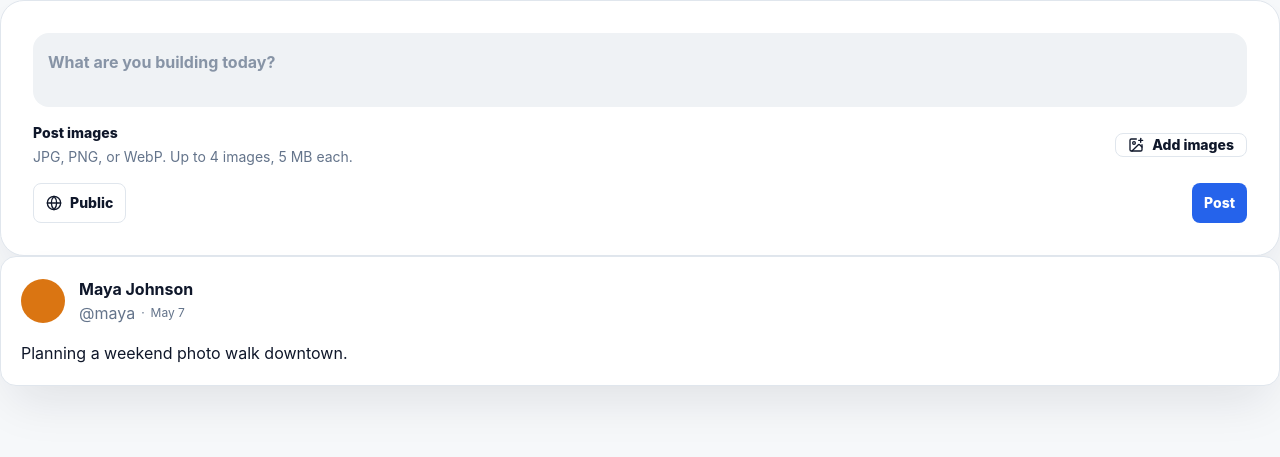
Test: PostsList › does not refetch the active feed immediately when post creation fails
Expected: the text "Planning a weekend photo walk downtown." is shown, top-left (21, 343), bottom-right (348, 363)
Type "Post while server is down." into the text box named "create post" at (640, 70), box top-left (33, 33), bottom-right (1247, 107)
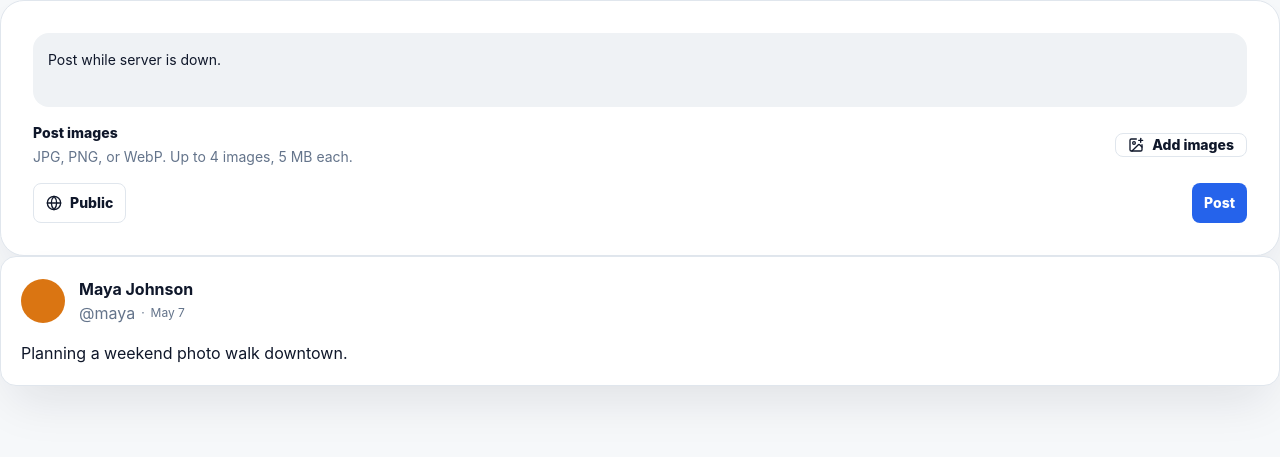
Click the button "Post" at (1220, 203), box top-left (1192, 183), bottom-right (1247, 223)
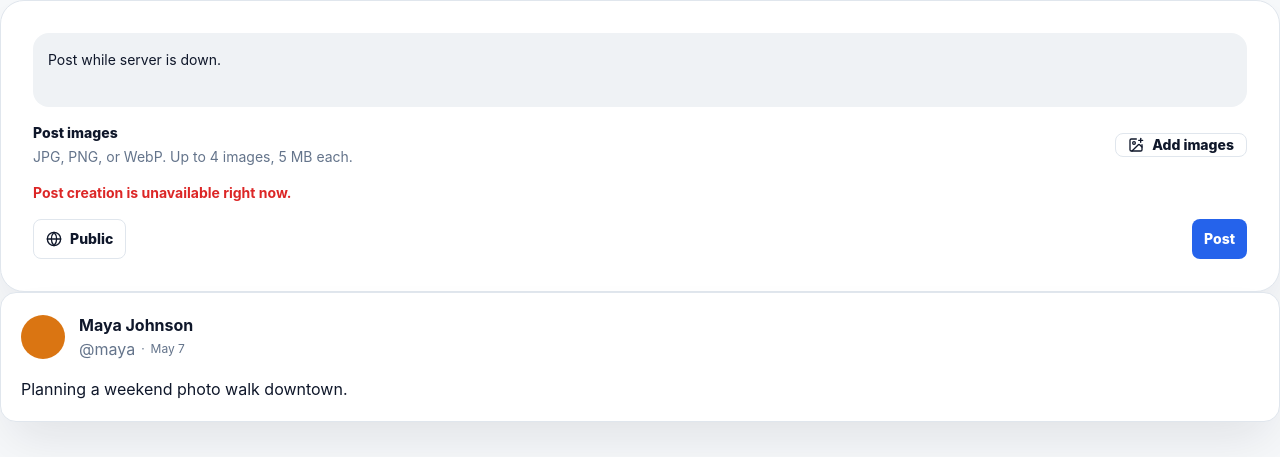
Expected: the text "Post creation is unavailable right now." is shown, top-left (33, 184), bottom-right (291, 201)
